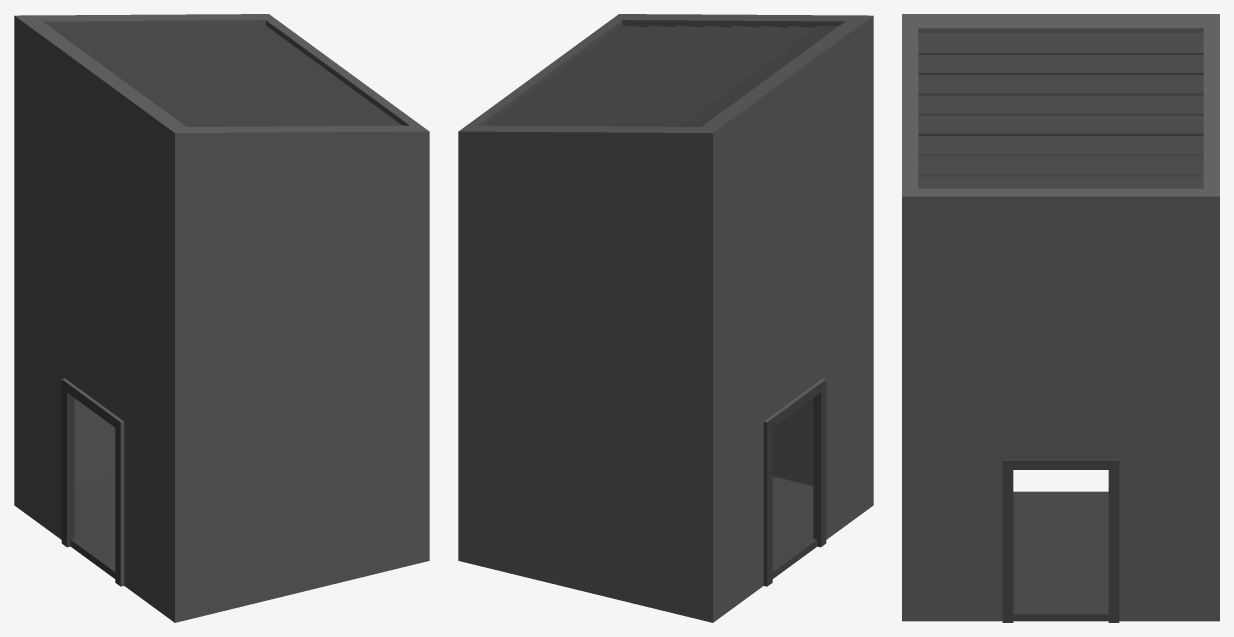
Rendered from HighBuilding2-3.fbx.
3 views of the same model, side by side, from view 1: azimuth 30°, elevation 25°; view 2: azimuth 150°, elevation 25°; view 3: azimuth 270°, elevation 25° (orthographic).
Parts seen in each view (by area): view 1: HighBuilding2.002_LOD0; view 2: HighBuilding2.002_LOD0; view 3: HighBuilding2.002_LOD0.
Boxes of the visible parts, bbox=[...] form: HighBuilding2.002_LOD0: bbox=[14, 14, 429, 622]; HighBuilding2.002_LOD0: bbox=[458, 14, 873, 622]; HighBuilding2.002_LOD0: bbox=[902, 14, 1219, 622].
Size of what is drawn, in the model's own units: 796 by 1423 by 846.
Materials: 1 (1 with a texture image).
